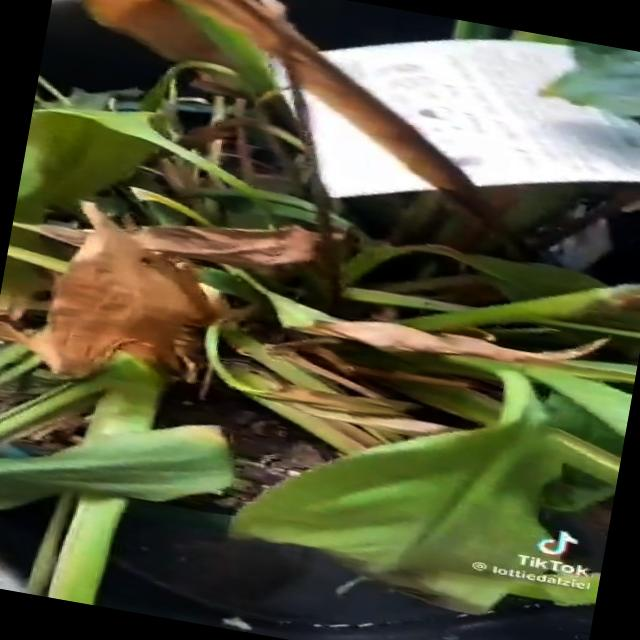lisc_suchy: (192, 0, 492, 216), (0, 200, 317, 383), (234, 488, 501, 613), (258, 345, 468, 449), (314, 321, 607, 363), (81, 0, 228, 66), (174, 123, 302, 198), (525, 283, 640, 323), (160, 156, 227, 191)
roslina_sucha: (0, 0, 640, 611)
